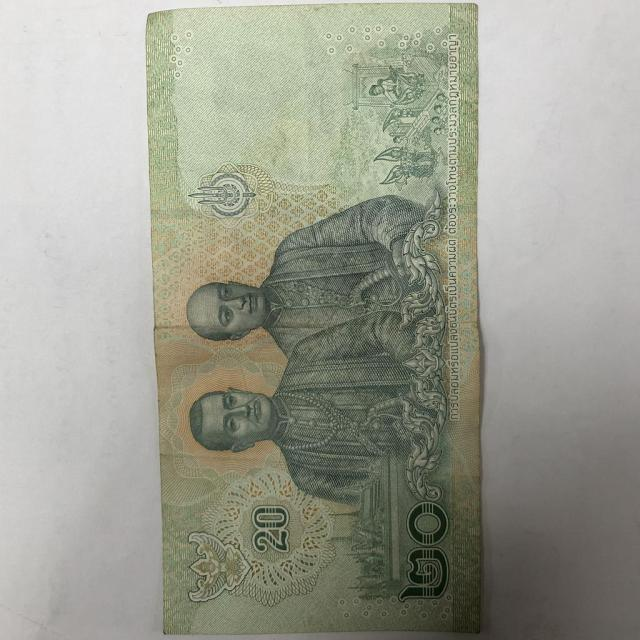THAI20: (146, 4, 480, 634)
